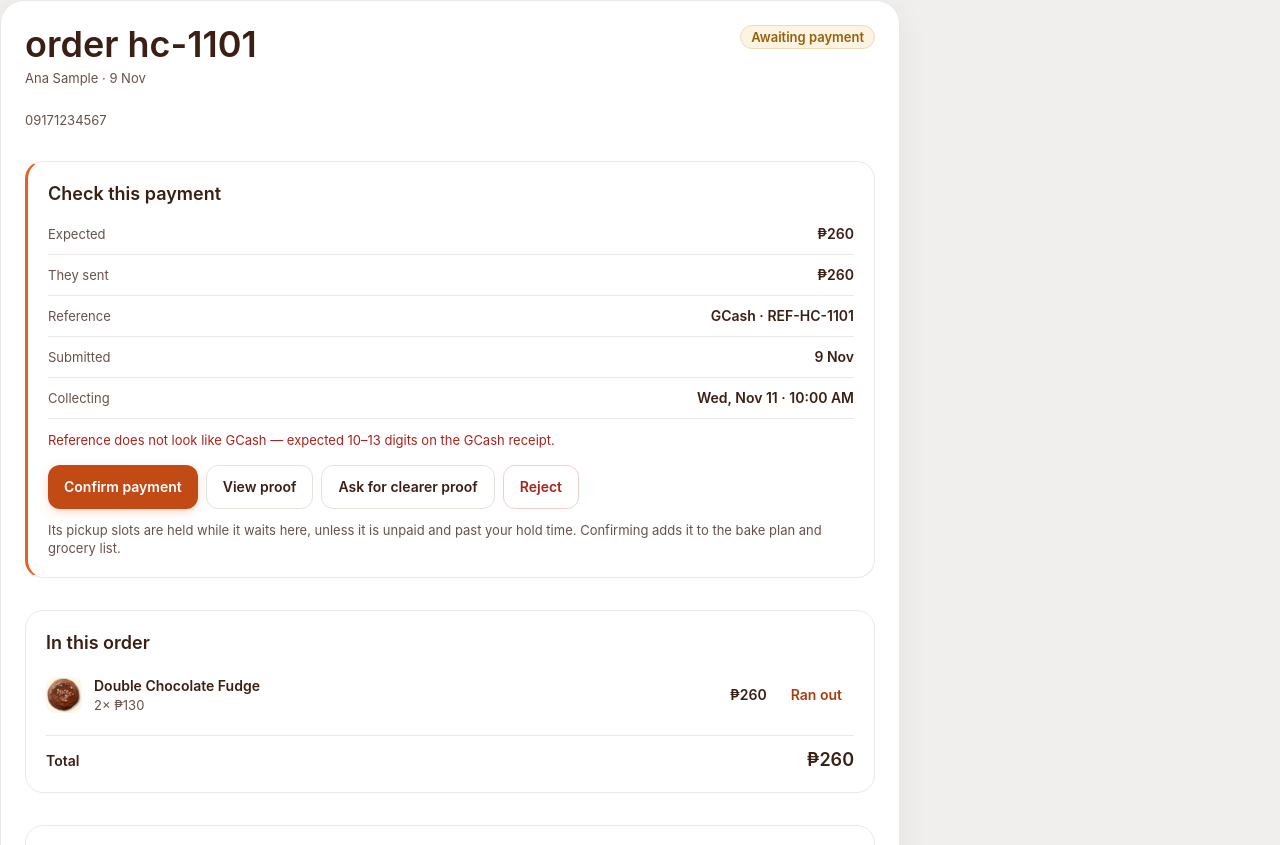
rejecting a payment asks first › the first press on Reject sends nothing and shows a dialog naming the customer and order
Click the button "Reject" at (541, 487), box [503, 465, 579, 509]
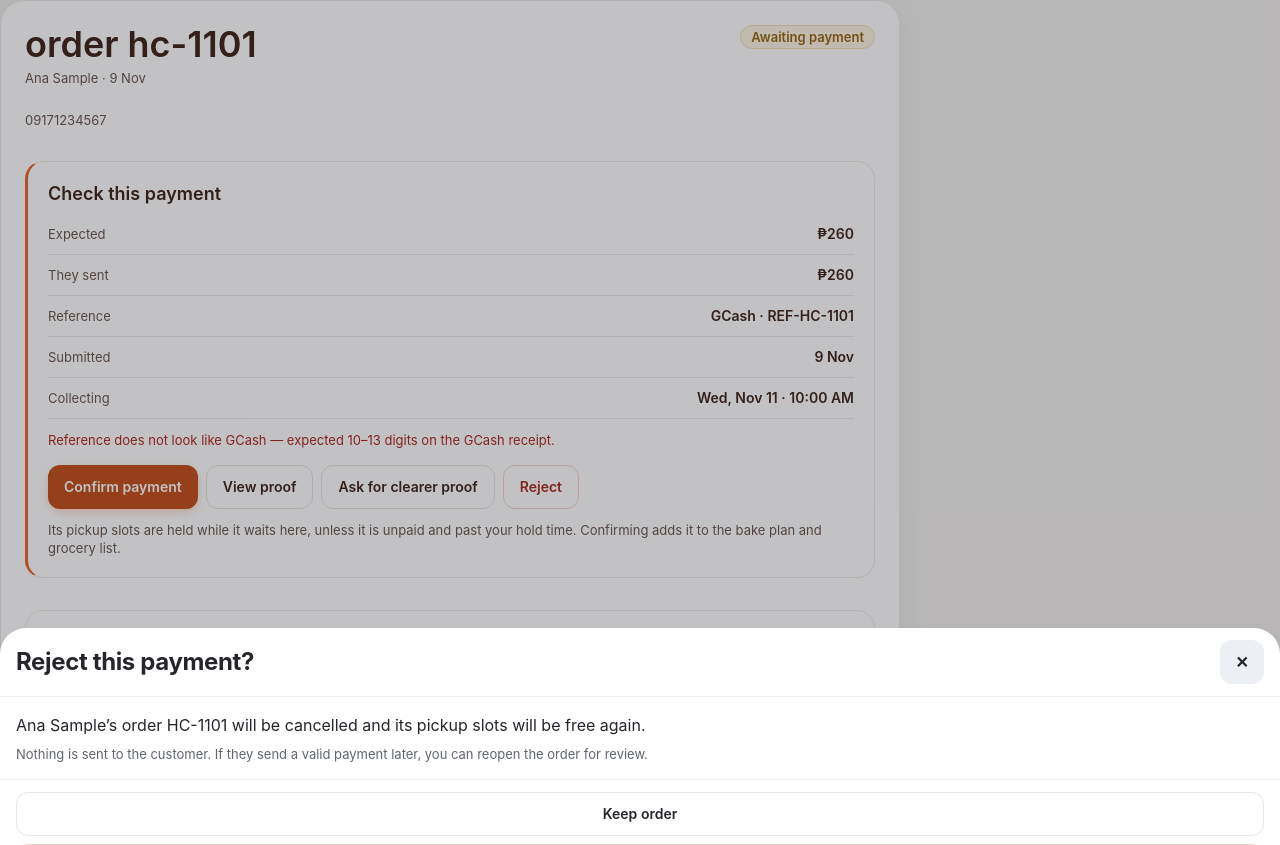
Now the dialog "Reject this payment?" shows "Ana Sample", box [16, 715, 646, 735]
Now the dialog "Reject this payment?" shows "HC-1101", box [16, 715, 646, 735]
